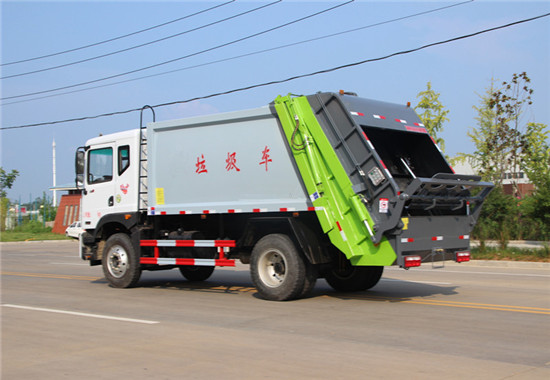garbagetruck: (64, 98, 452, 303)
